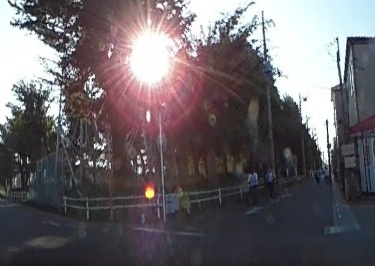person: (246, 165, 259, 200), (264, 165, 276, 199), (313, 165, 321, 184), (323, 165, 329, 184)
